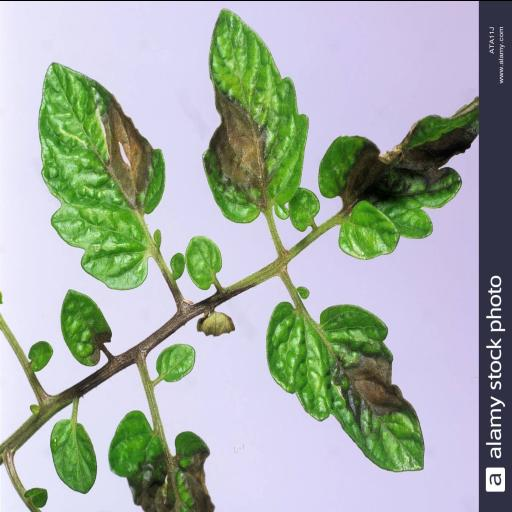Late Blight: (38, 60, 166, 288), (316, 93, 478, 259), (266, 301, 424, 471), (202, 8, 308, 222), (108, 409, 216, 512)
